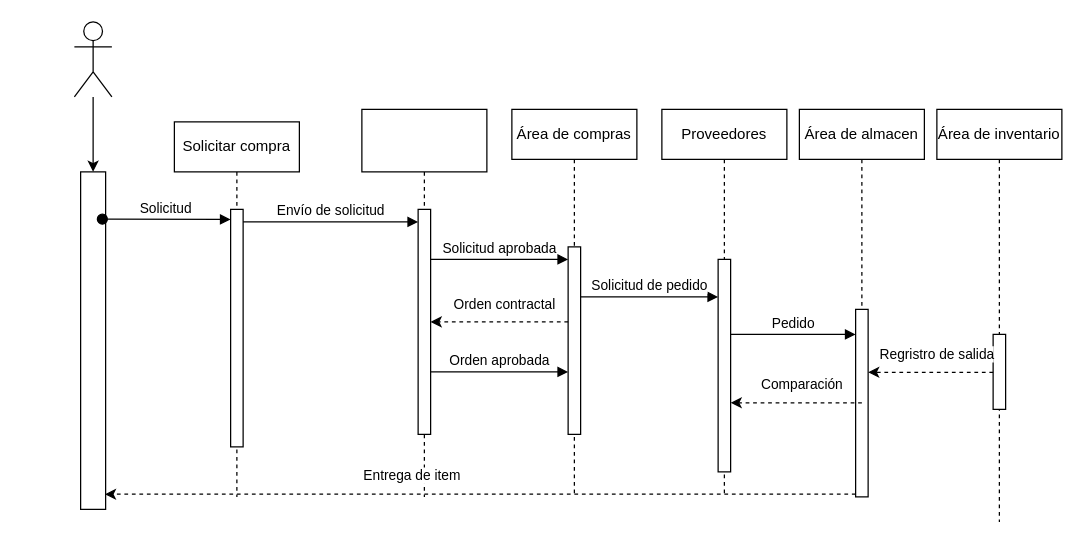
Some shapes in this 1084 by 544 pixel diagram are drawn without their labels. Each missing label, with the box of its shape:
Aprobacion de jefe de área y director financiero: (361, 108, 487, 497)
Solicitante de compra: (73, 21, 112, 97)
